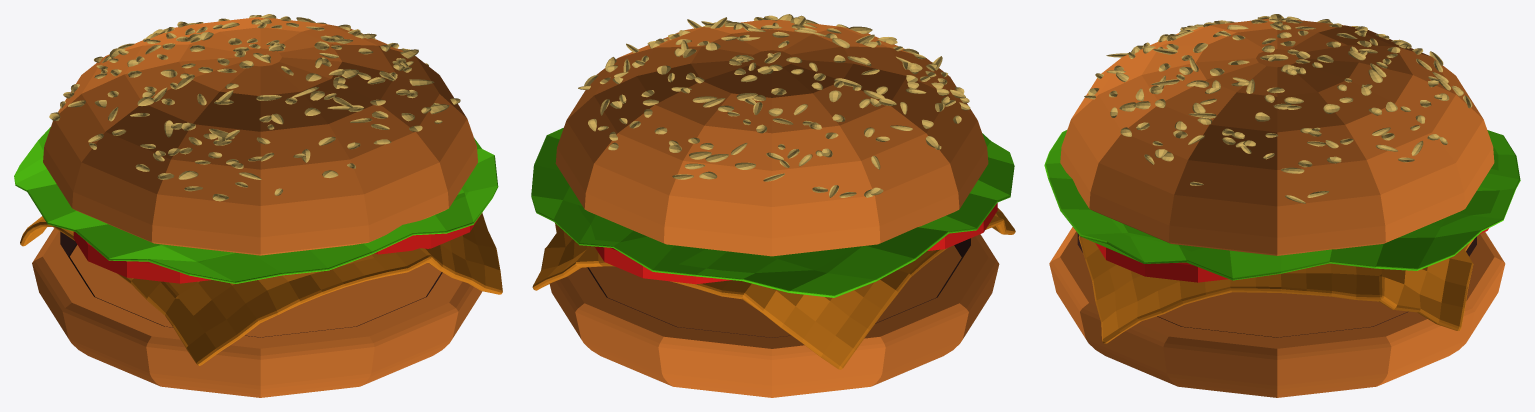
File: hamburguesa.obj
The picture shows the model from 3 angles, left to right: view 1: azimuth 30°, elevation 25°; view 2: azimuth 150°, elevation 25°; view 3: azimuth 270°, elevation 25°; orthographic projection.
Parts seen in each view (by area): view 1: obj7, obj1, obj3, obj6, obj4, obj2; view 2: obj7, obj1, obj6, obj3, obj4, obj2; view 3: obj7, obj1, obj6, obj3, obj4.
Part boxes in pixels (x1,y1,x2,y2): obj7: (43, 17, 477, 255); obj1: (32, 228, 482, 397); obj3: (20, 213, 502, 365); obj6: (14, 127, 498, 283); obj4: (73, 212, 482, 283); obj2: (60, 231, 442, 337); obj7: (555, 19, 988, 256); obj1: (549, 234, 999, 397); obj6: (531, 128, 1014, 297); obj3: (532, 208, 1015, 369); obj4: (594, 203, 997, 284); obj2: (587, 238, 970, 337); obj7: (1060, 18, 1494, 255); obj1: (1049, 227, 1505, 397); obj6: (1044, 130, 1520, 280); obj3: (1078, 235, 1474, 343); obj4: (1095, 228, 1488, 282).
Size of the model in its own units: 205 by 123 by 205.
